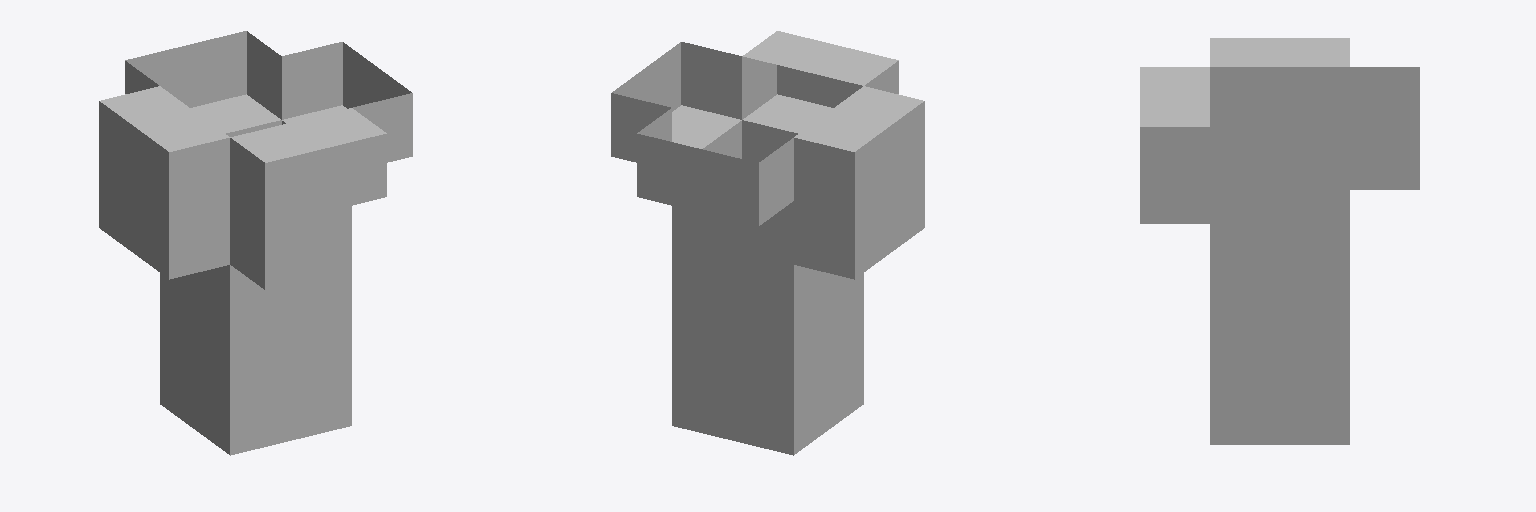
Rendered from sheepDavDR.obj.
3 renders of one model, left to right at view 1: azimuth 30°, elevation 25°; view 2: azimuth 150°, elevation 25°; view 3: azimuth 270°, elevation 25°, orthographic.
Parts seen in each view (by area): view 1: sheep.DavDr_sheep.003; view 2: sheep.DavDr_sheep.003; view 3: sheep.DavDr_sheep.003.
Part boxes in pixels (x1,y1,x2,y2): sheep.DavDr_sheep.003: (99, 31, 412, 455); sheep.DavDr_sheep.003: (611, 31, 924, 455); sheep.DavDr_sheep.003: (1140, 38, 1419, 444).
Bounding box in the file's own units: 4 × 5 × 4.